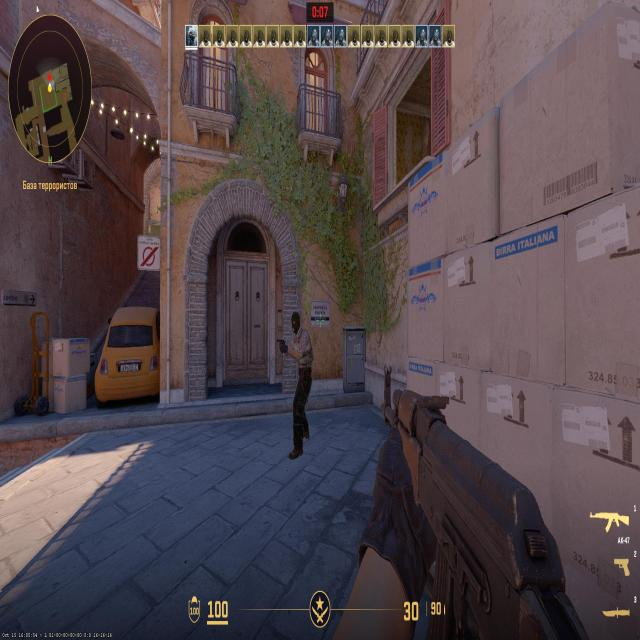T: (286, 310, 312, 445)
T_heat: (290, 316, 304, 338)
